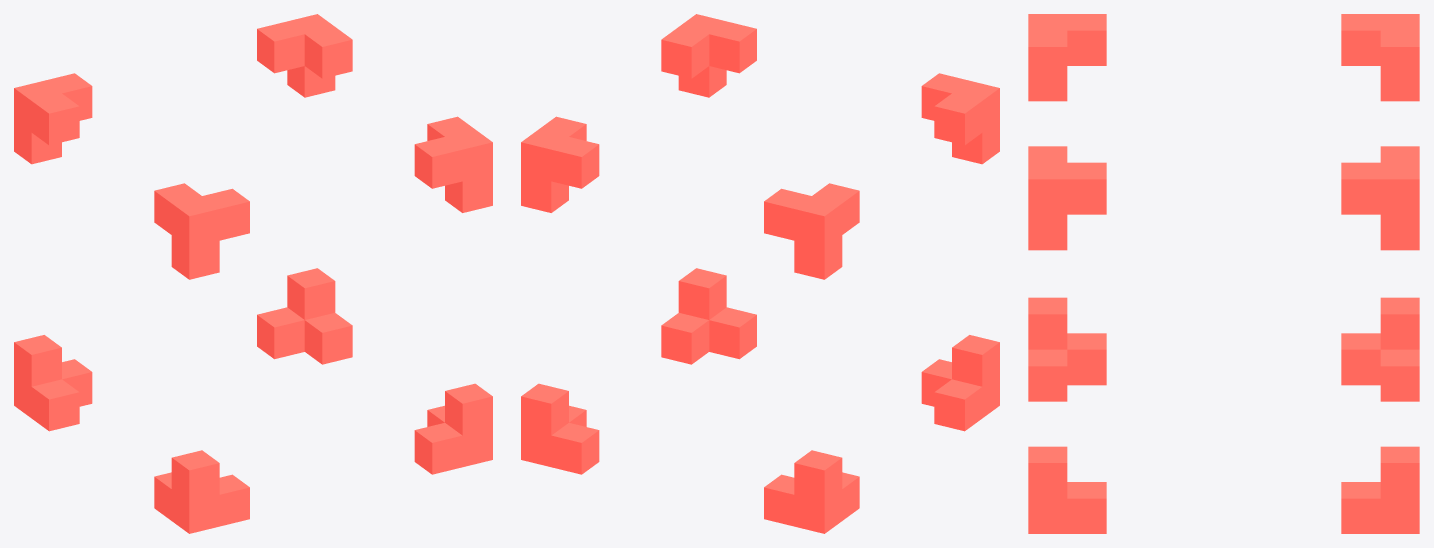
The model's file is CombinerCube_Player.fbx.
The picture shows the model from 3 angles, left to right: view 1: azimuth 30°, elevation 25°; view 2: azimuth 150°, elevation 25°; view 3: azimuth 270°, elevation 25°; orthographic projection. The views are drawn at different scales.
Visible parts, largest first — view 1: Cube.001; view 2: Cube.001; view 3: Cube.001.
Part boxes in pixels (box(x1,y1,x2,y2)): Cube.001: box(14, 14, 492, 533); Cube.001: box(521, 14, 999, 533); Cube.001: box(1028, 14, 1419, 533).
Bounding box in the file's own units: 100 × 100 × 100.
